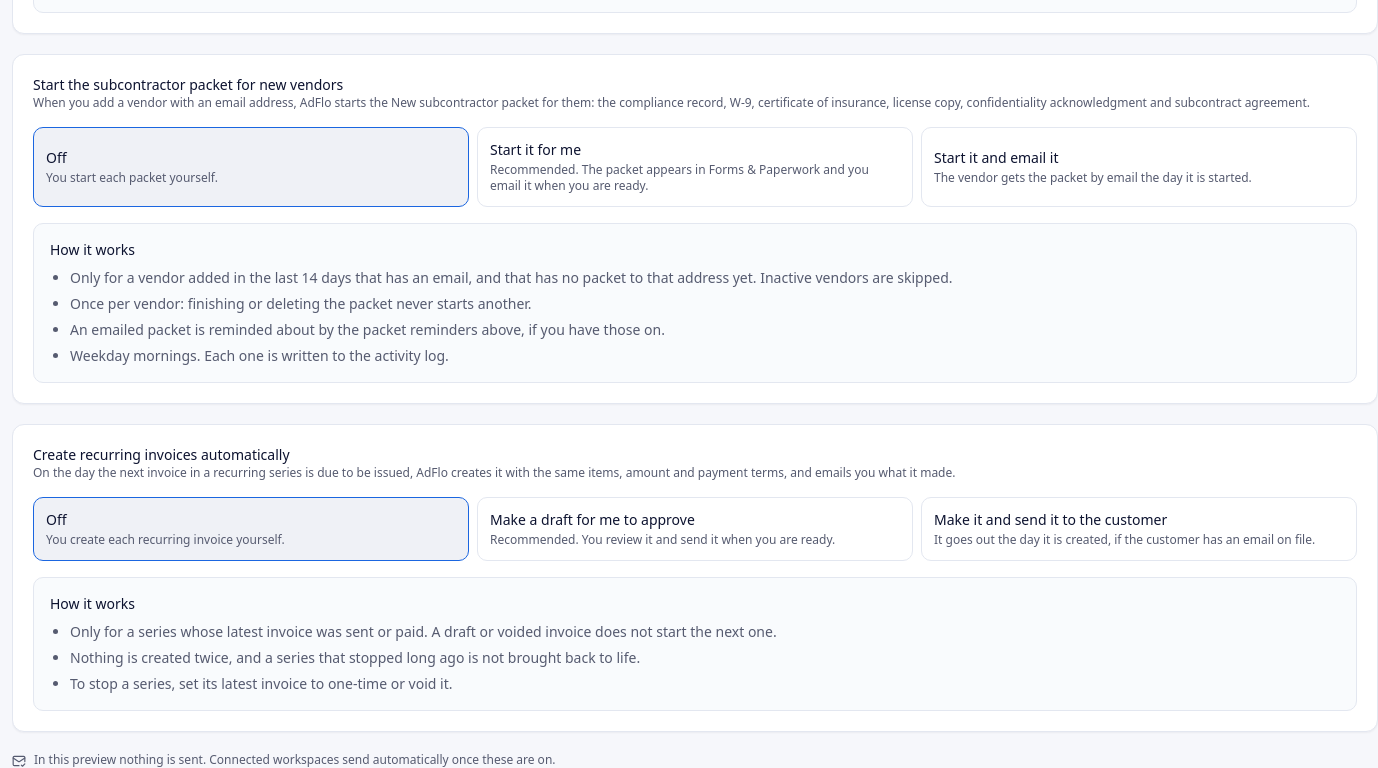
Scenario: Automations section: invoices › asks for a business email when something that emails customers is on, but not for drafts only
(page scrolled)
Click the radio button labelled "draft for me to approve": (695, 529) [477,497,913,561]
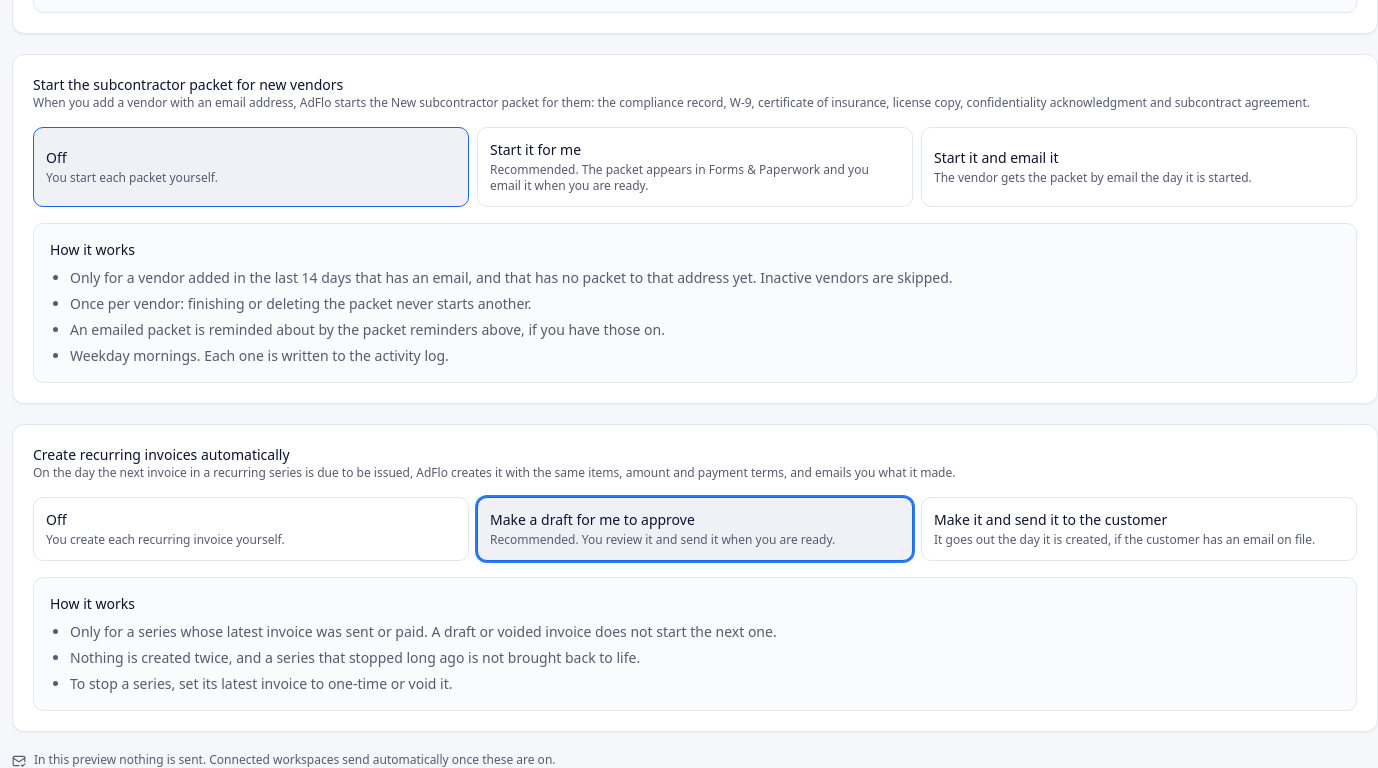
Click the radio button labelled "send it to the customer": (1139, 529) [921,497,1357,561]
(page scrolled)
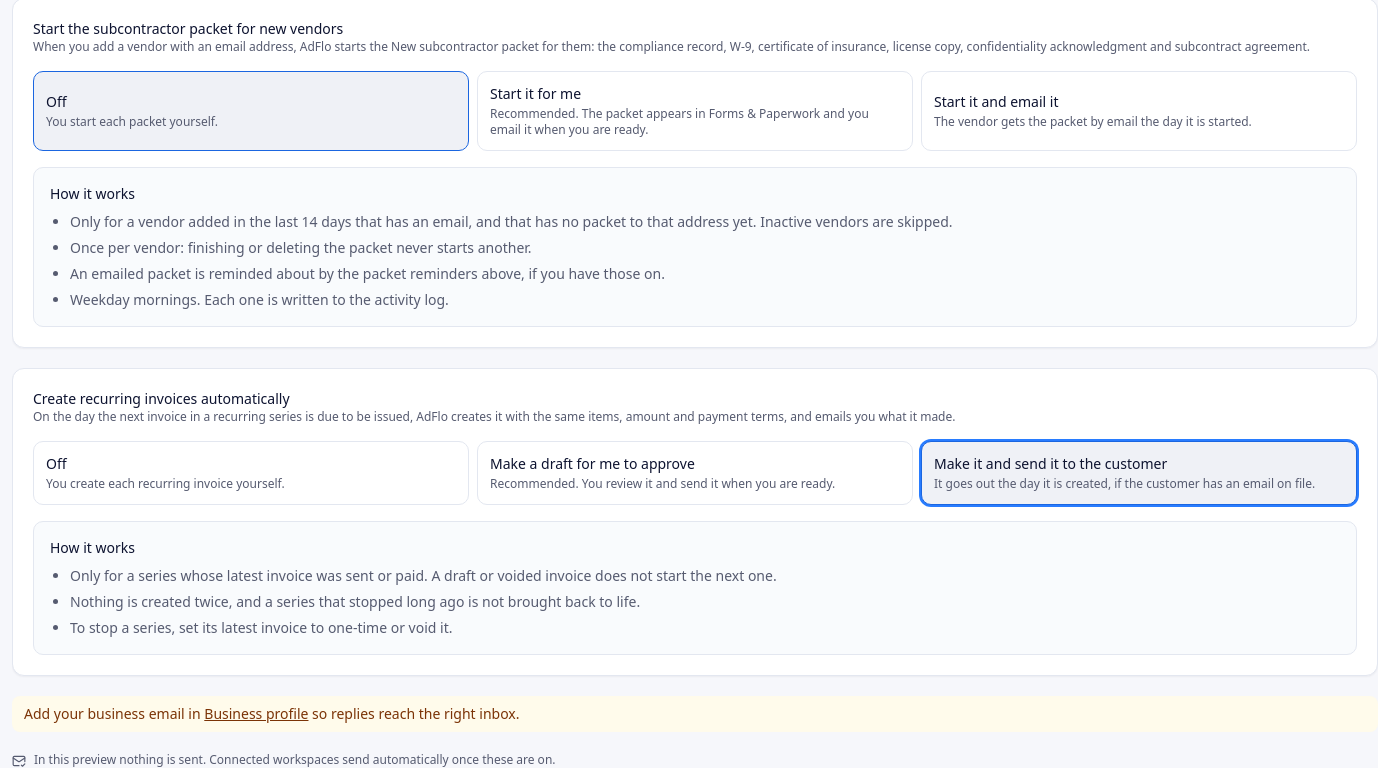
Expected: the element that starts with "Add your business email in" is shown, [24,704,204,723]
